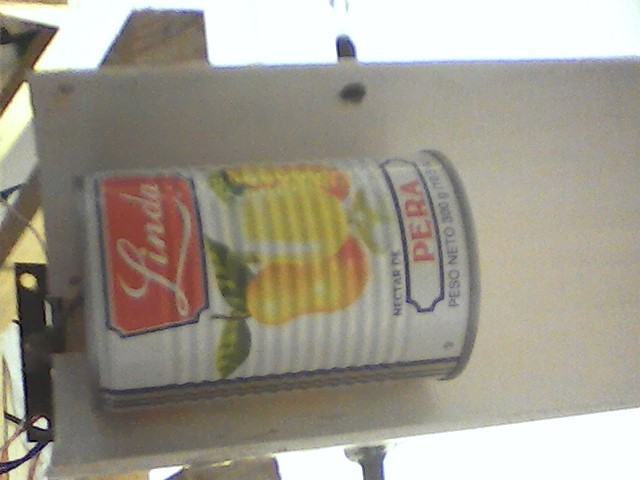lata: (70, 143, 494, 426)
